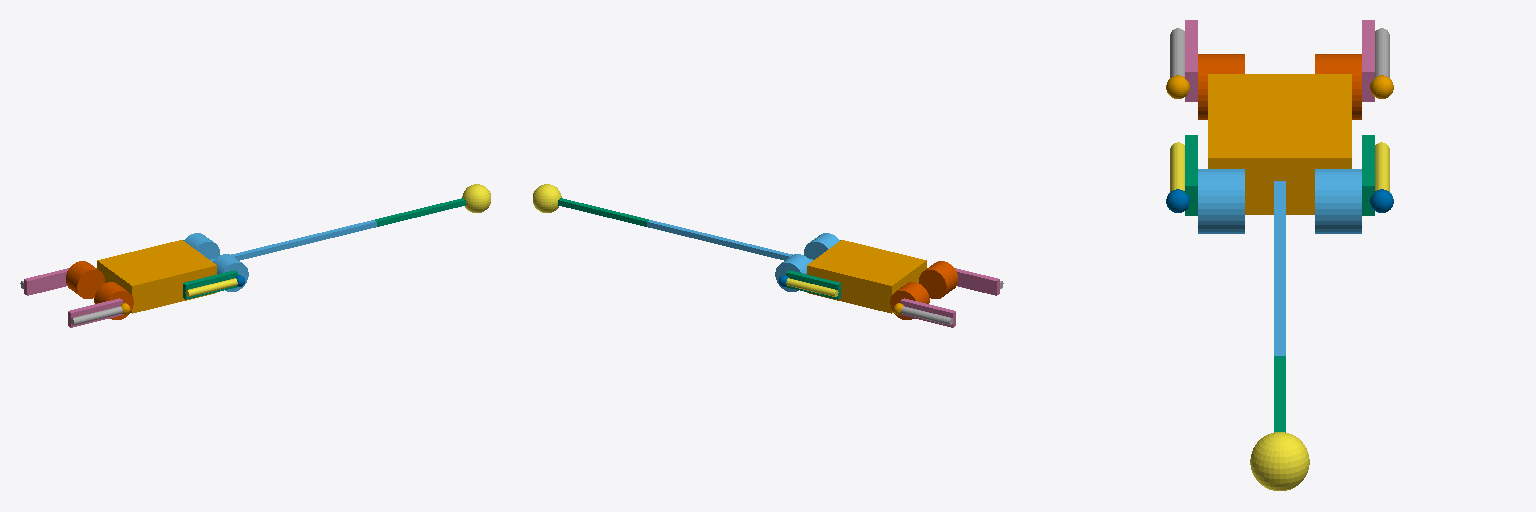
--- Facts derived from the render (not from the file) ---
3 views of the same robot in one strip: view 1: azimuth 30°, elevation 25°; view 2: azimuth 150°, elevation 25°; view 3: azimuth 270°, elevation 25° (orthographic).
Model spirit with 20 links and 19 joints (14 revolute, 5 fixed), rooted at body, posed every joint at zero.
Links seen in each view (by area): view 1: body, tail_link_0, hip1, upper1, tail_link_1, hip3, tail_mass, hip2, upper2, upper3, hip0; view 2: body, tail_link_0, hip3, upper3, tail_link_1, hip1, tail_mass, hip0, upper0, upper1, hip2; view 3: body, hip0, hip2, tail_mass, tail_link_0, hip1, hip3, upper1, upper3, upper0, upper2, tail_link_1 (+4 smaller).
Boxes of the visible links, bbox=[...] form: body: bbox=[97, 240, 216, 313]; tail_link_0: bbox=[211, 220, 376, 261]; hip1: bbox=[66, 261, 104, 298]; upper1: bbox=[24, 268, 68, 295]; tail_link_1: bbox=[375, 198, 465, 226]; hip3: bbox=[94, 282, 133, 319]; tail_mass: bbox=[462, 184, 490, 212]; hip2: bbox=[213, 254, 248, 291]; upper2: bbox=[183, 270, 237, 299]; upper3: bbox=[68, 298, 122, 327]; hip0: bbox=[184, 233, 219, 259]; body: bbox=[807, 240, 926, 313]; tail_link_0: bbox=[647, 220, 812, 261]; hip3: bbox=[919, 261, 957, 298]; upper3: bbox=[955, 268, 999, 295]; tail_link_1: bbox=[558, 198, 648, 226]; hip1: bbox=[890, 282, 929, 319]; tail_mass: bbox=[533, 184, 561, 212]; hip0: bbox=[775, 254, 810, 291]; upper0: bbox=[786, 270, 840, 299]; upper1: bbox=[901, 298, 955, 327]; hip2: bbox=[804, 233, 839, 259]; body: bbox=[1208, 74, 1351, 214]; hip0: bbox=[1315, 169, 1361, 233]; hip2: bbox=[1198, 169, 1244, 233]; tail_mass: bbox=[1250, 432, 1309, 490]; tail_link_0: bbox=[1274, 181, 1285, 355]; hip1: bbox=[1315, 54, 1361, 119]; hip3: bbox=[1198, 54, 1244, 119]; upper1: bbox=[1362, 20, 1374, 101]; upper3: bbox=[1185, 20, 1197, 101]; upper0: bbox=[1362, 135, 1374, 215]; upper2: bbox=[1185, 135, 1197, 215]; tail_link_1: bbox=[1274, 356, 1285, 432].
Size in the robot's own frame: 1.74 by 0.382 by 0.11 metres.
Geometry: primitives only (box / cylinder / sphere), no mesh files.

URDF robot description (spirit):
<?xml version="1.0" encoding="utf-8"?>
<!-- =================================================================================== -->
<!-- |    This document was autogenerated by xacro from working_gazebo.urdf.xacro      | -->
<!-- |    EDITING THIS FILE BY HAND IS NOT RECOMMENDED                                 | -->
<!-- =================================================================================== -->
<!-- 
MIT License (modified)

Copyright (c) 2020 Ghost Robotics
Authors:
Avik De <[email redacted]>
Tom Jacobs <[email redacted]>

Permission is hereby granted, free of charge, to any person obtaining a copy
of this **file** (the "Software"), to deal
in the Software without restriction, including without limitation the rights
to use, copy, modify, merge, publish, distribute, sublicense, and/or sell
copies of the Software, and to permit persons to whom the Software is
furnished to do so, subject to the following conditions:

The above copyright notice and this permission notice shall be included in all
copies or substantial portions of the Software.

THE SOFTWARE IS PROVIDED "AS IS", WITHOUT WARRANTY OF ANY KIND, EXPRESS OR
IMPLIED, INCLUDING BUT NOT LIMITED TO THE WARRANTIES OF MERCHANTABILITY,
FITNESS FOR A PARTICULAR PURPOSE AND NONINFRINGEMENT. IN NO EVENT SHALL THE
AUTHORS OR COPYRIGHT HOLDERS BE LIABLE FOR ANY CLAIM, DAMAGES OR OTHER
LIABILITY, WHETHER IN AN ACTION OF CONTRACT, TORT OR OTHERWISE, ARISING FROM,
OUT OF OR IN CONNECTION WITH THE SOFTWARE OR THE USE OR OTHER DEALINGS IN THE
SOFTWARE. 
-->
<robot name="spirit">
  <!-- Body -->
  <link name="body">
    <visual>
      <origin rpy="0 0 0" xyz="0 0 0"/>
      <geometry>
        <box size="0.335 0.24 0.104"/>
      </geometry>
      <material name="darkgray"/>
    </visual>
    <inertial>
      <mass value="5.75"/>
      <!-- Uniform box -->
      <!-- <inertia ixx="1/12*${bodyMass}*(${bodyWidth}*${bodyWidth} + ${bodyHeight}*${bodyHeight})"  ixy="0"  ixz="0" iyy="1/12*${bodyMass}*(${bodyLength}*${bodyLength} + ${bodyHeight}*${bodyHeight})" iyz="0" izz="1/12*${bodyMass}*(${bodyLength}*${bodyLength} + ${bodyWidth}*${bodyWidth})"/> -->
      <inertia ixx="0.05" ixy="0" ixz="0" iyy="0.1" iyz="0" izz="0.1"/>
    </inertial>
    <!-- Just copy geometry for collision -->
    <collision>
      <origin rpy="0 0 0" xyz="0 0 0"/>
      <geometry>
        <box size="0.335 0.24 0.104"/>
      </geometry>
    </collision>
  </link>
  <gazebo reference="body">
    <material>Gazebo/Black</material>
  </gazebo>
  <!-- Define our leg macro -->
  <!-- Hip motor -->
  <link name="hip0">
    <visual>
      <origin rpy="1.5707963268 0 0" xyz="0 0.028 0"/>
      <geometry>
        <cylinder length="0.08" radius="0.055"/>
      </geometry>
    </visual>
    <collision>
      <origin rpy="1.5707963268 0 0" xyz="0 0.028 0"/>
      <geometry>
        <cylinder length="0.08" radius="0.055"/>
      </geometry>
    </collision>
    <inertial>
      <mass value="0.575"/>
      <!-- <inertia ixx="1/12*${podMass}*${podLength}*${podLength} + 1/4*${podMass}*${podRadius}*${podRadius}"  ixy="0"  ixz="0" iyy="1/12*${podMass}*${podLength}*${podLength} + 1/4*${podMass}*${podRadius}*${podRadius}" iyz="0" izz="1/2*${podMass}*${podRadius}*$
				{podRadius}" /> -->
      <inertia ixx="0.00066963541" ixy="0" ixz="0" iyy="0.00066963541" iyz="0" izz="0.0008696875"/>
    </inertial>
  </link>
  <gazebo reference="hip0">
    <material>Gazebo/Grey</material>
  </gazebo>
  <!-- Abduction joint. Joint names are: 8 9 10 11 -->
  <joint name="8" type="revolute">
    <parent link="body"/>
    <child link="hip0"/>
    <axis xyz="1 0 0"/>
    <origin xyz="0.2263 0.07 0"/>
    <limit effort="40" lower="-0.707" upper="0.707" velocity="30"/>
    <dynamics damping="0.0" friction="0.0"/>
  </joint>
  <!-- Transmission elements required for Gazebo -->
  <transmission name="transmission_8">
    <type>transmission_interface/SimpleTransmission</type>
    <joint name="8">
      <hardwareInterface>hardware_interface/EffortJointInterface</hardwareInterface>
    </joint>
    <actuator name="motor_8">
      <hardwareInterface>EffortJointInterface</hardwareInterface>
      <mechanicalReduction>1</mechanicalReduction>
    </actuator>
  </transmission>
  <!-- Upper leg -->
  <link name="upper0">
    <visual>
      <origin rpy="0 0 0" xyz="-0.103 -0.022 0"/>
      <geometry>
        <box size="0.206 0.022 0.055"/>
      </geometry>
      <material name="silver"/>
    </visual>
    <collision>
      <origin rpy="0 0 0" xyz="-0.103 -0.022 0"/>
      <geometry>
        <box size="0.206 0.022 0.055"/>
      </geometry>
    </collision>
    <inertial>
      <mass value="0.775"/>
      <inertia ixx="5e-05" ixy="0" ixz="0" iyy="0.001" iyz="0" izz="0.001"/>
    </inertial>
  </link>
  <gazebo reference="upper0">
    <material>Gazebo/DarkGrey</material>
  </gazebo>
  <!-- Hip joint. (Motor to upper leg). Joint names are: 0 2 4 6 -->
  <joint name="0" type="revolute">
    <parent link="hip0"/>
    <child link="upper0"/>
    <axis xyz="0 -1 0"/>
    <origin xyz="0 0.10098 0"/>
    <!--  rpy="0 -0.3 0" -->
    <limit effort="40" lower="-6.28318530718" upper="6.28318530718" velocity="30"/>
    <dynamics damping="0.0" friction="0.0"/>
  </joint>
  <!-- Transmission elements required for Gazebo -->
  <transmission name="transmission_0">
    <type>transmission_interface/SimpleTransmission</type>
    <joint name="0">
      <hardwareInterface>hardware_interface/EffortJointInterface</hardwareInterface>
    </joint>
    <actuator name="motor_0">
      <hardwareInterface>EffortJointInterface</hardwareInterface>
      <mechanicalReduction>1</mechanicalReduction>
    </actuator>
  </transmission>
  <!-- Lower leg -->
  <link name="lower0">
    <visual>
      <origin rpy="0 1.5707963268 0" xyz="0.103 0 0"/>
      <geometry>
        <cylinder length="0.206" radius="0.013"/>
      </geometry>
      <material name="darkgray"/>
    </visual>
    <collision>
      <origin rpy="0 1.5707963268 0" xyz="0.103 0 0"/>
      <geometry>
        <cylinder length="0.206" radius="0.013"/>
      </geometry>
    </collision>
    <inertial>
      <mass value="0.075"/>
      <inertia ixx="5e-06" ixy="0" ixz="0" iyy="0.0001" iyz="0" izz="0.0001"/>
    </inertial>
  </link>
  <gazebo reference="lower0">
    <material>Gazebo/Grey</material>
  </gazebo>
  <!-- Knee joint. Joint names are: 1 3 5 7 -->
  <joint name="1" type="revolute">
    <parent link="upper0"/>
    <child link="lower0"/>
    <axis xyz="0 1 0"/>
    <origin xyz="-0.206 0 0"/>
    <!--rpy="0 0.5 0"-->
    <limit effort="40" lower="0" upper="3.14159265359" velocity="30"/>
    <dynamics damping="0.0" friction="0.0"/>
  </joint>
  <!-- Transmission elements required for Gazebo -->
  <transmission name="transmission_1">
    <type>transmission_interface/SimpleTransmission</type>
    <joint name="1">
      <hardwareInterface>hardware_interface/EffortJointInterface</hardwareInterface>
    </joint>
    <actuator name="motor_1">
      <hardwareInterface>EffortJointInterface</hardwareInterface>
      <mechanicalReduction>1</mechanicalReduction>
    </actuator>
  </transmission>
  <!-- Toe -->
  <link name="toe0">
    <contact>
      <friction_anchor/>
      <stiffness value="30000.0"/>
      <damping value="1000.0"/>
      <spinning_friction value="0.3"/>
      <lateral_friction value="50.0"/>
    </contact>
    <visual>
      <origin rpy="0 0 0" xyz="0 0 0"/>
      <geometry>
        <sphere radius="0.02"/>
      </geometry>
      <material name="darkgray"/>
    </visual>
    <collision>
      <origin rpy="0 0 0" xyz="0 0 0"/>
      <geometry>
        <sphere radius="0.02"/>
      </geometry>
    </collision>
    <inertial>
      <mass value="0.015"/>
      <inertia ixx="0.000025" ixy="0" ixz="0" iyy="0.000025" iyz="0" izz="0.000025"/>
      <!-- <inertia ixx="2/5*${toeMass}*${toeRadius}*${toeRadius}"  ixy="0"  ixz="0" iyy="2/5*${toeMass}*${toeRadius}*${toeRadius}" iyz="0" izz="2/5*${toeMass}*${toeRadius}*${toeRadius}" /> -->
    </inertial>
  </link>
  <gazebo reference="toe0">
    <material>Gazebo/Black</material>
    <collision>
      <surface>
        <bounce>
          <restitution_coefficient>0</restitution_coefficient>
          <threshold>1e+06</threshold>
        </bounce>
        <friction>
          <torsional>
            <coefficient>0.3</coefficient>
          </torsional>
          <ode>
            <mu>100.0</mu>
            <mu2>50.0</mu2>
          </ode>
          <bullet>
            <rolling_friction>0.3</rolling_friction>
            <friction2>50.0</friction2>
          </bullet>
        </friction>
        <contact>
          <bullet>
            <kp>30000.0</kp>
            <kd>1000.0</kd>
          </bullet>
          <ode>
            <kp>30000.0</kp>
            <kd>1000.0</kd>
          </ode>
        </contact>
      </surface>
    </collision>
  </gazebo>
  <joint name="jtoe0" type="fixed">
    <parent link="lower0"/>
    <child link="toe0"/>
    <origin xyz="0.206 0 -0.0"/>
    <dynamics damping="0.0" friction="0.0"/>
  </joint>
  <!-- Hip motor -->
  <link name="hip1">
    <visual>
      <origin rpy="1.5707963268 0 0" xyz="0 0.028 0"/>
      <geometry>
        <cylinder length="0.08" radius="0.055"/>
      </geometry>
    </visual>
    <collision>
      <origin rpy="1.5707963268 0 0" xyz="0 0.028 0"/>
      <geometry>
        <cylinder length="0.08" radius="0.055"/>
      </geometry>
    </collision>
    <inertial>
      <mass value="0.575"/>
      <!-- <inertia ixx="1/12*${podMass}*${podLength}*${podLength} + 1/4*${podMass}*${podRadius}*${podRadius}"  ixy="0"  ixz="0" iyy="1/12*${podMass}*${podLength}*${podLength} + 1/4*${podMass}*${podRadius}*${podRadius}" iyz="0" izz="1/2*${podMass}*${podRadius}*$
				{podRadius}" /> -->
      <inertia ixx="0.00066963541" ixy="0" ixz="0" iyy="0.00066963541" iyz="0" izz="0.0008696875"/>
    </inertial>
  </link>
  <gazebo reference="hip1">
    <material>Gazebo/Grey</material>
  </gazebo>
  <!-- Abduction joint. Joint names are: 8 9 10 11 -->
  <joint name="9" type="revolute">
    <parent link="body"/>
    <child link="hip1"/>
    <axis xyz="1 0 0"/>
    <origin xyz="-0.2263 0.07 0"/>
    <limit effort="40" lower="-0.707" upper="0.707" velocity="30"/>
    <dynamics damping="0.0" friction="0.0"/>
  </joint>
  <!-- Transmission elements required for Gazebo -->
  <transmission name="transmission_9">
    <type>transmission_interface/SimpleTransmission</type>
    <joint name="9">
      <hardwareInterface>hardware_interface/EffortJointInterface</hardwareInterface>
    </joint>
    <actuator name="motor_9">
      <hardwareInterface>EffortJointInterface</hardwareInterface>
      <mechanicalReduction>1</mechanicalReduction>
    </actuator>
  </transmission>
  <!-- Upper leg -->
  <link name="upper1">
    <visual>
      <origin rpy="0 0 0" xyz="-0.103 -0.022 0"/>
      <geometry>
        <box size="0.206 0.022 0.055"/>
      </geometry>
      <material name="silver"/>
    </visual>
    <collision>
      <origin rpy="0 0 0" xyz="-0.103 -0.022 0"/>
      <geometry>
        <box size="0.206 0.022 0.055"/>
      </geometry>
    </collision>
    <inertial>
      <mass value="0.775"/>
      <inertia ixx="5e-05" ixy="0" ixz="0" iyy="0.001" iyz="0" izz="0.001"/>
    </inertial>
  </link>
  <gazebo reference="upper1">
    <material>Gazebo/DarkGrey</material>
  </gazebo>
  <!-- Hip joint. (Motor to upper leg). Joint names are: 0 2 4 6 -->
  <joint name="2" type="revolute">
    <parent link="hip1"/>
    <child link="upper1"/>
    <axis xyz="0 -1 0"/>
    <origin xyz="0 0.10098 0"/>
    <!--  rpy="0 -0.3 0" -->
    <limit effort="40" lower="-6.28318530718" upper="6.28318530718" velocity="30"/>
    <dynamics damping="0.0" friction="0.0"/>
  </joint>
  <!-- Transmission elements required for Gazebo -->
  <transmission name="transmission_2">
    <type>transmission_interface/SimpleTransmission</type>
    <joint name="2">
      <hardwareInterface>hardware_interface/EffortJointInterface</hardwareInterface>
    </joint>
    <actuator name="motor_2">
      <hardwareInterface>EffortJointInterface</hardwareInterface>
      <mechanicalReduction>1</mechanicalReduction>
    </actuator>
  </transmission>
  <!-- Lower leg -->
  <link name="lower1">
    <visual>
      <origin rpy="0 1.5707963268 0" xyz="0.103 0 0"/>
      <geometry>
        <cylinder length="0.206" radius="0.013"/>
      </geometry>
      <material name="darkgray"/>
    </visual>
    <collision>
      <origin rpy="0 1.5707963268 0" xyz="0.103 0 0"/>
      <geometry>
        <cylinder length="0.206" radius="0.013"/>
      </geometry>
    </collision>
    <inertial>
      <mass value="0.075"/>
      <inertia ixx="5e-06" ixy="0" ixz="0" iyy="0.0001" iyz="0" izz="0.0001"/>
    </inertial>
  </link>
  <gazebo reference="lower1">
    <material>Gazebo/Grey</material>
  </gazebo>
  <!-- Knee joint. Joint names are: 1 3 5 7 -->
  <joint name="3" type="revolute">
    <parent link="upper1"/>
    <child link="lower1"/>
    <axis xyz="0 1 0"/>
    <origin xyz="-0.206 0 0"/>
    <!--rpy="0 0.5 0"-->
    <limit effort="40" lower="0" upper="3.14159265359" velocity="30"/>
    <dynamics damping="0.0" friction="0.0"/>
  </joint>
  <!-- Transmission elements required for Gazebo -->
  <transmission name="transmission_3">
    <type>transmission_interface/SimpleTransmission</type>
    <joint name="3">
      <hardwareInterface>hardware_interface/EffortJointInterface</hardwareInterface>
    </joint>
    <actuator name="motor_3">
      <hardwareInterface>EffortJointInterface</hardwareInterface>
      <mechanicalReduction>1</mechanicalReduction>
    </actuator>
  </transmission>
  <!-- Toe -->
  <link name="toe1">
    <contact>
      <friction_anchor/>
      <stiffness value="30000.0"/>
      <damping value="1000.0"/>
      <spinning_friction value="0.3"/>
      <lateral_friction value="50.0"/>
    </contact>
    <visual>
      <origin rpy="0 0 0" xyz="0 0 0"/>
      <geometry>
        <sphere radius="0.02"/>
      </geometry>
      <material name="darkgray"/>
    </visual>
    <collision>
      <origin rpy="0 0 0" xyz="0 0 0"/>
      <geometry>
        <sphere radius="0.02"/>
      </geometry>
    </collision>
    <inertial>
      <mass value="0.015"/>
      <inertia ixx="0.000025" ixy="0" ixz="0" iyy="0.000025" iyz="0" izz="0.000025"/>
      <!-- <inertia ixx="2/5*${toeMass}*${toeRadius}*${toeRadius}"  ixy="0"  ixz="0" iyy="2/5*${toeMass}*${toeRadius}*${toeRadius}" iyz="0" izz="2/5*${toeMass}*${toeRadius}*${toeRadius}" /> -->
    </inertial>
  </link>
  <gazebo reference="toe1">
    <material>Gazebo/Black</material>
    <collision>
      <surface>
        <bounce>
          <restitution_coefficient>0</restitution_coefficient>
          <threshold>1e+06</threshold>
        </bounce>
        <friction>
          <torsional>
            <coefficient>0.3</coefficient>
          </torsional>
          <ode>
            <mu>100.0</mu>
            <mu2>50.0</mu2>
          </ode>
          <bullet>
            <rolling_friction>0.3</rolling_friction>
            <friction2>50.0</friction2>
          </bullet>
        </friction>
        <contact>
          <bullet>
            <kp>30000.0</kp>
            <kd>1000.0</kd>
          </bullet>
          <ode>
            <kp>30000.0</kp>
            <kd>1000.0</kd>
          </ode>
        </contact>
      </surface>
    </collision>
  </gazebo>
  <joint name="jtoe1" type="fixed">
    <parent link="lower1"/>
    <child link="toe1"/>
    <origin xyz="0.206 0 -0.0"/>
    <dynamics damping="0.0" friction="0.0"/>
  </joint>
  <!-- Hip motor -->
  <link name="hip2">
    <visual>
      <origin rpy="1.5707963268 0 0" xyz="0 -0.028 0"/>
      <geometry>
        <cylinder length="0.08" radius="0.055"/>
      </geometry>
    </visual>
    <collision>
      <origin rpy="1.5707963268 0 0" xyz="0 -0.028 0"/>
      <geometry>
        <cylinder length="0.08" radius="0.055"/>
      </geometry>
    </collision>
    <inertial>
      <mass value="0.575"/>
      <!-- <inertia ixx="1/12*${podMass}*${podLength}*${podLength} + 1/4*${podMass}*${podRadius}*${podRadius}"  ixy="0"  ixz="0" iyy="1/12*${podMass}*${podLength}*${podLength} + 1/4*${podMass}*${podRadius}*${podRadius}" iyz="0" izz="1/2*${podMass}*${podRadius}*$
				{podRadius}" /> -->
      <inertia ixx="0.00066963541" ixy="0" ixz="0" iyy="0.00066963541" iyz="0" izz="0.0008696875"/>
    </inertial>
  </link>
  <gazebo reference="hip2">
    <material>Gazebo/Grey</material>
  </gazebo>
  <!-- Abduction joint. Joint names are: 8 9 10 11 -->
  <joint name="10" type="revolute">
    <parent link="body"/>
    <child link="hip2"/>
    <axis xyz="1 0 0"/>
    <origin xyz="0.2263 -0.07 0"/>
    <limit effort="40" lower="-0.707" upper="0.707" velocity="30"/>
    <dynamics damping="0.0" friction="0.0"/>
  </joint>
  <!-- Transmission elements required for Gazebo -->
  <transmission name="transmission_10">
    <type>transmission_interface/SimpleTransmission</type>
    <joint name="10">
      <hardwareInterface>hardware_interface/EffortJointInterface</hardwareInterface>
    </joint>
    <actuator name="motor_10">
      <hardwareInterface>EffortJointInterface</hardwareInterface>
      <mechanicalReduction>1</mechanicalReduction>
    </actuator>
  </transmission>
  <!-- Upper leg -->
  <link name="upper2">
    <visual>
      <origin rpy="0 0 0" xyz="-0.103 0.022 0"/>
      <geometry>
        <box size="0.206 0.022 0.055"/>
      </geometry>
      <material name="silver"/>
    </visual>
    <collision>
      <origin rpy="0 0 0" xyz="-0.103 0.022 0"/>
      <geometry>
        <box size="0.206 0.022 0.055"/>
      </geometry>
    </collision>
    <inertial>
      <mass value="0.775"/>
      <inertia ixx="5e-05" ixy="0" ixz="0" iyy="0.001" iyz="0" izz="0.001"/>
    </inertial>
  </link>
  <gazebo reference="upper2">
    <material>Gazebo/DarkGrey</material>
  </gazebo>
  <!-- Hip joint. (Motor to upper leg). Joint names are: 0 2 4 6 -->
  <joint name="4" type="revolute">
    <parent link="hip2"/>
    <child link="upper2"/>
    <axis xyz="0 -1 0"/>
    <origin xyz="0 -0.10098 0"/>
    <!--  rpy="0 -0.3 0" -->
    <limit effort="40" lower="-6.28318530718" upper="6.28318530718" velocity="30"/>
    <dynamics damping="0.0" friction="0.0"/>
  </joint>
  <!-- Transmission elements required for Gazebo -->
  <transmission name="transmission_4">
    <type>transmission_interface/SimpleTransmission</type>
    <joint name="4">
      <hardwareInterface>hardware_interface/EffortJointInterface</hardwareInterface>
    </joint>
    <actuator name="motor_4">
      <hardwareInterface>EffortJointInterface</hardwareInterface>
      <mechanicalReduction>1</mechanicalReduction>
    </actuator>
  </transmission>
  <!-- Lower leg -->
  <link name="lower2">
    <visual>
      <origin rpy="0 1.5707963268 0" xyz="0.103 0 0"/>
      <geometry>
        <cylinder length="0.206" radius="0.013"/>
      </geometry>
      <material name="darkgray"/>
    </visual>
    <collision>
      <origin rpy="0 1.5707963268 0" xyz="0.103 0 0"/>
      <geometry>
        <cylinder length="0.206" radius="0.013"/>
      </geometry>
    </collision>
    <inertial>
      <mass value="0.075"/>
      <inertia ixx="5e-06" ixy="0" ixz="0" iyy="0.0001" iyz="0" izz="0.0001"/>
    </inertial>
  </link>
  <gazebo reference="lower2">
    <material>Gazebo/Grey</material>
  </gazebo>
  <!-- Knee joint. Joint names are: 1 3 5 7 -->
  <joint name="5" type="revolute">
    <parent link="upper2"/>
    <child link="lower2"/>
    <axis xyz="0 1 0"/>
    <origin xyz="-0.206 0 0"/>
    <!--rpy="0 0.5 0"-->
    <limit effort="40" lower="0" upper="3.14159265359" velocity="30"/>
    <dynamics damping="0.0" friction="0.0"/>
  </joint>
  <!-- Transmission elements required for Gazebo -->
  <transmission name="transmission_5">
    <type>transmission_interface/SimpleTransmission</type>
    <joint name="5">
      <hardwareInterface>hardware_interface/EffortJointInterface</hardwareInterface>
    </joint>
    <actuator name="motor_5">
      <hardwareInterface>EffortJointInterface</hardwareInterface>
      <mechanicalReduction>1</mechanicalReduction>
    </actuator>
  </transmission>
  <!-- Toe -->
  <link name="toe2">
    <contact>
      <friction_anchor/>
      <stiffness value="30000.0"/>
      <damping value="1000.0"/>
      <spinning_friction value="0.3"/>
      <lateral_friction value="50.0"/>
    </contact>
    <visual>
      <origin rpy="0 0 0" xyz="0 0 0"/>
      <geometry>
        <sphere radius="0.02"/>
      </geometry>
      <material name="darkgray"/>
    </visual>
    <collision>
      <origin rpy="0 0 0" xyz="0 0 0"/>
      <geometry>
        <sphere radius="0.02"/>
      </geometry>
    </collision>
    <inertial>
      <mass value="0.015"/>
      <inertia ixx="0.000025" ixy="0" ixz="0" iyy="0.000025" iyz="0" izz="0.000025"/>
      <!-- <inertia ixx="2/5*${toeMass}*${toeRadius}*${toeRadius}"  ixy="0"  ixz="0" iyy="2/5*${toeMass}*${toeRadius}*${toeRadius}" iyz="0" izz="2/5*${toeMass}*${toeRadius}*${toeRadius}" /> -->
    </inertial>
  </link>
  <gazebo reference="toe2">
    <material>Gazebo/Black</material>
    <collision>
      <surface>
        <bounce>
          <restitution_coefficient>0</restitution_coefficient>
          <threshold>1e+06</threshold>
        </bounce>
        <friction>
          <torsional>
            <coefficient>0.3</coefficient>
          </torsional>
          <ode>
            <mu>100.0</mu>
            <mu2>50.0</mu2>
          </ode>
          <bullet>
            <rolling_friction>0.3</rolling_friction>
            <friction2>50.0</friction2>
          </bullet>
        </friction>
        <contact>
          <bullet>
            <kp>30000.0</kp>
            <kd>1000.0</kd>
          </bullet>
          <ode>
            <kp>30000.0</kp>
            <kd>1000.0</kd>
          </ode>
        </contact>
      </surface>
    </collision>
  </gazebo>
  <joint name="jtoe2" type="fixed">
    <parent link="lower2"/>
    <child link="toe2"/>
    <origin xyz="0.206 0 -0.0"/>
    <dynamics damping="0.0" friction="0.0"/>
  </joint>
  <!-- Hip motor -->
  <link name="hip3">
    <visual>
      <origin rpy="1.5707963268 0 0" xyz="0 -0.028 0"/>
      <geometry>
        <cylinder length="0.08" radius="0.055"/>
      </geometry>
    </visual>
    <collision>
      <origin rpy="1.5707963268 0 0" xyz="0 -0.028 0"/>
      <geometry>
        <cylinder length="0.08" radius="0.055"/>
      </geometry>
    </collision>
    <inertial>
      <mass value="0.575"/>
      <!-- <inertia ixx="1/12*${podMass}*${podLength}*${podLength} + 1/4*${podMass}*${podRadius}*${podRadius}"  ixy="0"  ixz="0" iyy="1/12*${podMass}*${podLength}*${podLength} + 1/4*${podMass}*${podRadius}*${podRadius}" iyz="0" izz="1/2*${podMass}*${podRadius}*$
				{podRadius}" /> -->
      <inertia ixx="0.00066963541" ixy="0" ixz="0" iyy="0.00066963541" iyz="0" izz="0.0008696875"/>
    </inertial>
  </link>
  <gazebo reference="hip3">
    <material>Gazebo/Grey</material>
  </gazebo>
  <!-- Abduction joint. Joint names are: 8 9 10 11 -->
  <joint name="11" type="revolute">
    <parent link="body"/>
    <child link="hip3"/>
    <axis xyz="1 0 0"/>
    <origin xyz="-0.2263 -0.07 0"/>
    <limit effort="40" lower="-0.707" upper="0.707" velocity="30"/>
    <dynamics damping="0.0" friction="0.0"/>
  </joint>
  <!-- Transmission elements required for Gazebo -->
  <transmission name="transmission_11">
    <type>transmission_interface/SimpleTransmission</type>
    <joint name="11">
      <hardwareInterface>hardware_interface/EffortJointInterface</hardwareInterface>
    </joint>
    <actuator name="motor_11">
      <hardwareInterface>EffortJointInterface</hardwareInterface>
      <mechanicalReduction>1</mechanicalReduction>
    </actuator>
  </transmission>
  <!-- Upper leg -->
  <link name="upper3">
    <visual>
      <origin rpy="0 0 0" xyz="-0.103 0.022 0"/>
      <geometry>
        <box size="0.206 0.022 0.055"/>
      </geometry>
      <material name="silver"/>
    </visual>
    <collision>
      <origin rpy="0 0 0" xyz="-0.103 0.022 0"/>
      <geometry>
        <box size="0.206 0.022 0.055"/>
      </geometry>
    </collision>
    <inertial>
      <mass value="0.775"/>
      <inertia ixx="5e-05" ixy="0" ixz="0" iyy="0.001" iyz="0" izz="0.001"/>
    </inertial>
  </link>
  <gazebo reference="upper3">
    <material>Gazebo/DarkGrey</material>
  </gazebo>
  <!-- Hip joint. (Motor to upper leg). Joint names are: 0 2 4 6 -->
  <joint name="6" type="revolute">
    <parent link="hip3"/>
    <child link="upper3"/>
    <axis xyz="0 -1 0"/>
    <origin xyz="0 -0.10098 0"/>
    <!--  rpy="0 -0.3 0" -->
    <limit effort="40" lower="-6.28318530718" upper="6.28318530718" velocity="30"/>
    <dynamics damping="0.0" friction="0.0"/>
  </joint>
  <!-- Transmission elements required for Gazebo -->
  <transmission name="transmission_6">
    <type>transmission_interface/SimpleTransmission</type>
    <joint name="6">
      <hardwareInterface>hardware_interface/EffortJointInterface</hardwareInterface>
    </joint>
    <actuator name="motor_6">
      <hardwareInterface>EffortJointInterface</hardwareInterface>
      <mechanicalReduction>1</mechanicalReduction>
    </actuator>
  </transmission>
  <!-- Lower leg -->
  <link name="lower3">
    <visual>
      <origin rpy="0 1.5707963268 0" xyz="0.103 0 0"/>
      <geometry>
        <cylinder length="0.206" radius="0.013"/>
      </geometry>
      <material name="darkgray"/>
    </visual>
    <collision>
      <origin rpy="0 1.5707963268 0" xyz="0.103 0 0"/>
      <geometry>
        <cylinder length="0.206" radius="0.013"/>
      </geometry>
    </collision>
    <inertial>
      <mass value="0.075"/>
      <inertia ixx="5e-06" ixy="0" ixz="0" iyy="0.0001" iyz="0" izz="0.0001"/>
    </inertial>
  </link>
  <gazebo reference="lower3">
    <material>Gazebo/Grey</material>
  </gazebo>
  <!-- Knee joint. Joint names are: 1 3 5 7 -->
  <joint name="7" type="revolute">
    <parent link="upper3"/>
    <child link="lower3"/>
    <axis xyz="0 1 0"/>
    <origin xyz="-0.206 0 0"/>
    <!--rpy="0 0.5 0"-->
    <limit effort="40" lower="0" upper="3.14159265359" velocity="30"/>
    <dynamics damping="0.0" friction="0.0"/>
  </joint>
  <!-- Transmission elements required for Gazebo -->
  <transmission name="transmission_7">
    <type>transmission_interface/SimpleTransmission</type>
    <joint name="7">
      <hardwareInterface>hardware_interface/EffortJointInterface</hardwareInterface>
    </joint>
    <actuator name="motor_7">
      <hardwareInterface>EffortJointInterface</hardwareInterface>
      <mechanicalReduction>1</mechanicalReduction>
    </actuator>
  </transmission>
  <!-- Toe -->
  <link name="toe3">
    <contact>
      <friction_anchor/>
      <stiffness value="30000.0"/>
      <damping value="1000.0"/>
      <spinning_friction value="0.3"/>
      <lateral_friction value="50.0"/>
    </contact>
    <visual>
      <origin rpy="0 0 0" xyz="0 0 0"/>
      <geometry>
        <sphere radius="0.02"/>
      </geometry>
      <material name="darkgray"/>
    </visual>
    <collision>
      <origin rpy="0 0 0" xyz="0 0 0"/>
      <geometry>
        <sphere radius="0.02"/>
      </geometry>
    </collision>
    <inertial>
      <mass value="0.015"/>
      <inertia ixx="0.000025" ixy="0" ixz="0" iyy="0.000025" iyz="0" izz="0.000025"/>
      <!-- <inertia ixx="2/5*${toeMass}*${toeRadius}*${toeRadius}"  ixy="0"  ixz="0" iyy="2/5*${toeMass}*${toeRadius}*${toeRadius}" iyz="0" izz="2/5*${toeMass}*${toeRadius}*${toeRadius}" /> -->
    </inertial>
  </link>
  <gazebo reference="toe3">
    <material>Gazebo/Black</material>
    <collision>
      <surface>
        <bounce>
          <restitution_coefficient>0</restitution_coefficient>
          <threshold>1e+06</threshold>
        </bounce>
        <friction>
          <torsional>
            <coefficient>0.3</coefficient>
          </torsional>
          <ode>
            <mu>100.0</mu>
            <mu2>50.0</mu2>
          </ode>
          <bullet>
            <rolling_friction>0.3</rolling_friction>
            <friction2>50.0</friction2>
          </bullet>
        </friction>
        <contact>
          <bullet>
            <kp>30000.0</kp>
            <kd>1000.0</kd>
          </bullet>
          <ode>
            <kp>30000.0</kp>
            <kd>1000.0</kd>
          </ode>
        </contact>
      </surface>
    </collision>
  </gazebo>
  <joint name="jtoe3" type="fixed">
    <parent link="lower3"/>
    <child link="toe3"/>
    <origin xyz="0.206 0 -0.0"/>
    <dynamics damping="0.0" friction="0.0"/>
  </joint>
  <!--    CUSTOMIZED SECTIONS BELOW. NOT FROM GHOST ROBOTICS.    -->
  <!-- Neck or tail-->
  <link name="tail_link_0">
    <visual>
      <origin rpy="0 0 0" xyz="0.35 0 0"/>
      <geometry>
	<box size="0.7 0.02 0.02"/>
      </geometry>
      <material name="darkgray"/>
    </visual>
    <inertial>
      <!-- <origin rpy="0 0 0" xyz="0.35 0 0"/> -->
      <mass value="0.001"/>
      <inertia ixx="1e-04" ixy="0" ixz="0" iyy="1e-04" iyz="0" izz="1e-04"/>
    </inertial>
    <!-- Just copy geometry for collision -->
    <!-- <collision>
		<origin rpy="0 0 0" xyz="${0.5*neckLength1} 0 0"/>
			<geometry>
				<box size="${neckLength1} ${neckWidth} ${neckHeight}"/>
			</geometry>
		</collision> -->
  </link>
  <gazebo reference="tail_link_0">
    <material>Gazebo/Gray</material>
  </gazebo>
  <link name="tail_link_1">
    <visual>
      <origin rpy="0 0 0" xyz="0.2 0 0"/>
      <geometry>
	<box size="0.4 0.02 0.02"/>
      </geometry>
      <material name="darkgray"/>
    </visual>
    <inertial>
      <!-- <origin rpy="0 0 0" xyz="0.2 0 0"/> -->
      <mass value="0.001"/>
      <inertia ixx="1e-04" ixy="0" ixz="0" iyy="1e-04" iyz="0" izz="1e-04"/>
    </inertial>
    <!-- Just copy geometry for collision -->
    <!-- <collision>
		<origin rpy="0 0 0" xyz="${0.5*neckLength2} 0 0"/>
			<geometry>
				<box size="${neckLength2} ${neckWidth} ${neckHeight}"/>
			</geometry>
		</collision> -->
  </link>
  <gazebo reference="tail_link_1">
    <material>Gazebo/Gray</material>
  </gazebo>
  <link name="tail_mass">
    <visual>
      <origin rpy="0 0 0" xyz="0 0 0"/>
      <geometry>
        <sphere radius="0.05"/>
      </geometry>
      <material name="gray"/>
    </visual>
    <inertial>
      <origin rpy="0 0 0" xyz="0 0 0"/>
      <mass value="0.2764"/>
      <inertia ixx="2.764e-04" ixy="0" ixz="0" iyy="2.764e-04" iyz="0" izz="2.764e-04"/>
    </inertial>
    <collision>
      <origin rpy="0 0 0" xyz="0 0 0"/>
      <geometry>
        <box size="0.1 0.1 0.1"/>
      </geometry>
    </collision>
  </link>
  <gazebo reference="tail_mass">
    <material>Gazebo/Gray</material>
  </gazebo>

  <!-- Tail joint -->
  <joint name="body_tail_joint_0" type="revolute">
    <parent link="body"/>
    <child link="tail_link_0"/>
    <axis xyz="0 1 0"/>
    <origin xyz="0.16 0 0"/>
    <limit effort="35" lower="-1.57" upper="1.57" velocity="1000000"/>
    <dynamics damping="0.0" friction="0.0"/>
  </joint>
  <!-- Transmission elements required for Gazebo -->
  <transmission name="transmission_body_tail_joint_0">
    <type>transmission_interface/SimpleTransmission</type>
    <joint name="body_tail_joint_0">
      <hardwareInterface>hardware_interface/EffortJointInterface</hardwareInterface>
    </joint>
    <actuator name="motor_body_tail_joint_0">
      <hardwareInterface>EffortJointInterface</hardwareInterface>
      <mechanicalReduction>1</mechanicalReduction>
    </actuator>
  </transmission>
  <joint name="body_tail_joint_1" type="revolute">
    <parent link="tail_link_0"/>
    <child link="tail_link_1"/>
    <axis xyz="0 1 0"/>
    <origin xyz="0.7 0 0"/>
    <limit effort="35" lower="-1.57" upper="1.57" velocity="1000000"/>
    <dynamics damping="0.0" friction="0.0"/>
  </joint>
  <!-- Transmission elements required for Gazebo -->
  <transmission name="transmission_body_tail_joint_1">
    <type>transmission_interface/SimpleTransmission</type>
    <joint name="body_tail_joint_1">
      <hardwareInterface>hardware_interface/EffortJointInterface</hardwareInterface>
    </joint>
    <actuator name="motor_body_tail_joint_1">
      <hardwareInterface>EffortJointInterface</hardwareInterface>
      <mechanicalReduction>1</mechanicalReduction>
    </actuator>
  </transmission>
  <joint name="tail_link_mass_joint" type="fixed">
    <parent link="tail_link_1"/>
    <child link="tail_mass"/>
    <origin xyz="0.4 0 0 "/>
    <dynamics damping="0.0" friction="0.0"/>
  </joint>
<gazebo reference="tail_link_mass_joint">
  <disableFixedJointLumping>1</disableFixedJointLumping> 
  <preserveFixedJoint>1</preserveFixedJoint>
</gazebo>
<gazebo reference="jtoe0">
  <disableFixedJointLumping>1</disableFixedJointLumping> 
  <preserveFixedJoint>1</preserveFixedJoint>
</gazebo>
<gazebo reference="jtoe1">
  <disableFixedJointLumping>1</disableFixedJointLumping> 
  <preserveFixedJoint>1</preserveFixedJoint>
</gazebo>
<gazebo reference="jtoe2">
  <disableFixedJointLumping>1</disableFixedJointLumping> 
  <preserveFixedJoint>1</preserveFixedJoint>
</gazebo>
<gazebo reference="jtoe3">
  <disableFixedJointLumping>1</disableFixedJointLumping> 
  <preserveFixedJoint>1</preserveFixedJoint>
</gazebo>
  <!--    CUSTOMIZED SECTIONS	ABOVE. NOT FROM GHOST ROBOTICS.    -->
  <!-- Add ros_control plugin -->
  <!-- <gazebo>
  		<plugin name="gazebo_ros_control" filename="libgazebo_ros_control.so">
    		<robotNamespace>/spirit</robotNamespace>
  		</plugin>
	</gazebo> -->
</robot>
